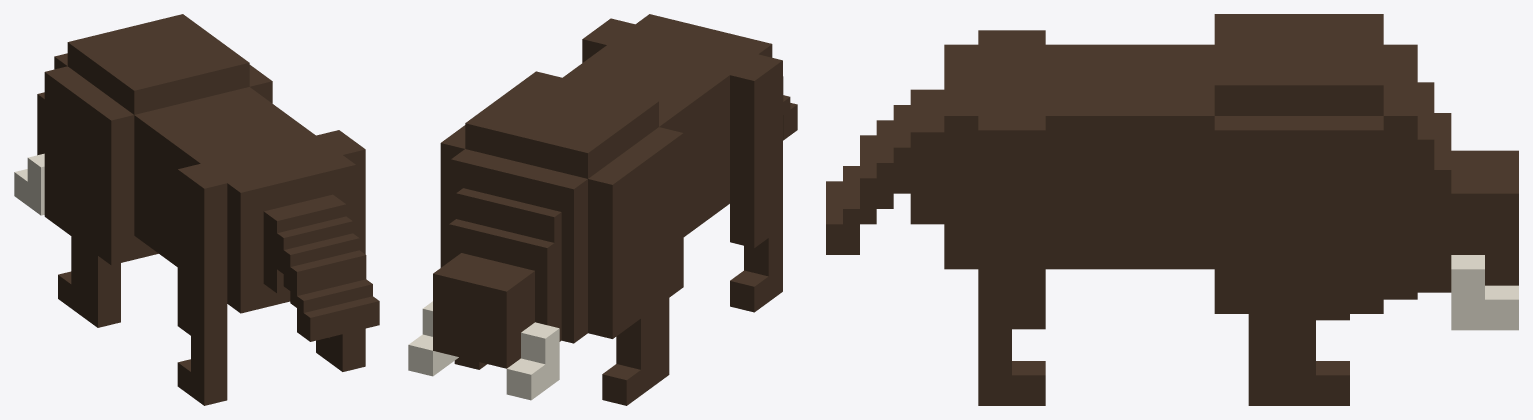
The model's file is Boar2.fbx.
3 renders of one model, left to right at view 1: azimuth 30°, elevation 25°; view 2: azimuth 150°, elevation 25°; view 3: azimuth 270°, elevation 25°, orthographic. The views are drawn at different scales.
Visible parts, largest first — view 1: 立方体.006, 立方体.028, 立方体.004, 立方体.007, 立方体.009, 立方体.010, 立方体.015, 立方体.013, 立方体.016, 立方体.008, 立方体.018, 立方体.012 (+10 smaller); view 2: 立方体.006, 立方体.004, 立方体.028, 立方体, 立方体.009, 立方体.003, 立方体.007, 立方体.001, 立方体.002, 立方体.016, 立方体.018, 立方体.027 (+7 smaller); view 3: 立方体.028, 立方体.005, 立方体.004, 立方体.008, 立方体.007, 立方体.003, 立方体, 立方体.010, 立方体.017, 立方体.002, 立方体.019, 立方体.001 (+10 smaller).
Part boxes in pixels (left/top/right/bottom): 立方体.006: left=44, top=66, right=134, bottom=265; 立方体.028: left=134, top=87, right=315, bottom=266; 立方体.004: left=67, top=14, right=249, bottom=259; 立方体.007: left=201, top=135, right=355, bottom=313; 立方体.009: left=177, top=163, right=227, bottom=345; 立方体.010: left=263, top=194, right=346, bottom=293; 立方体.015: left=297, top=296, right=379, bottom=341; 立方体.013: left=290, top=250, right=366, bottom=307; 立方体.016: left=71, top=236, right=120, bottom=303; 立方体.008: left=316, top=130, right=365, bottom=254; 立方体.018: left=58, top=271, right=120, bottom=327; 立方体.012: left=283, top=233, right=359, bottom=290; 立方体.006: left=588, top=127, right=683, bottom=338; 立方体.004: left=465, top=71, right=658, bottom=178; 立方体.028: left=563, top=45, right=729, bottom=236; 立方体: left=433, top=253, right=534, bottom=368; 立方体.009: left=730, top=54, right=782, bottom=248; 立方体.003: left=451, top=149, right=587, bottom=343; 立方体.007: left=607, top=14, right=772, bottom=74; 立方体.001: left=449, top=219, right=554, bottom=326; 立方体.002: left=456, top=188, right=561, bottom=341; 立方体.016: left=616, top=298, right=669, bottom=369; 立方体.018: left=602, top=349, right=669, bottom=405; 立方体.027: left=521, top=322, right=559, bottom=389; 立方体.028: left=1045, top=44, right=1214, bottom=269; 立方体.005: left=1214, top=116, right=1383, bottom=313; 立方体.004: left=1214, top=14, right=1383, bottom=115; 立方体.008: left=978, top=116, right=1045, bottom=329; 立方体.007: left=944, top=44, right=1045, bottom=269; 立方体.003: left=1383, top=44, right=1417, bottom=299; 立方体: left=1451, top=150, right=1518, bottom=285; 立方体.010: left=910, top=89, right=944, bottom=224; 立方体.017: left=1248, top=314, right=1315, bottom=375; 立方体.002: left=1417, top=82, right=1434, bottom=292; 立方体.019: left=1248, top=361, right=1349, bottom=405; 立方体.001: left=1434, top=113, right=1451, bottom=292.
Size of the model in its own units: 14 by 20 by 41.
Materials: 2 (2 with a texture image).
